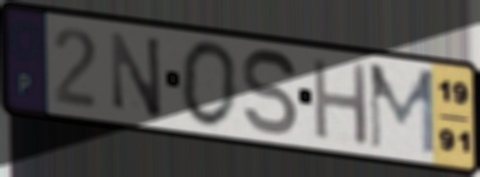2: (50, 26, 99, 112)
H: (310, 54, 371, 148)
M: (366, 61, 438, 158)
N: (107, 28, 165, 123)
O: (178, 38, 240, 132)
S: (240, 46, 302, 140)
